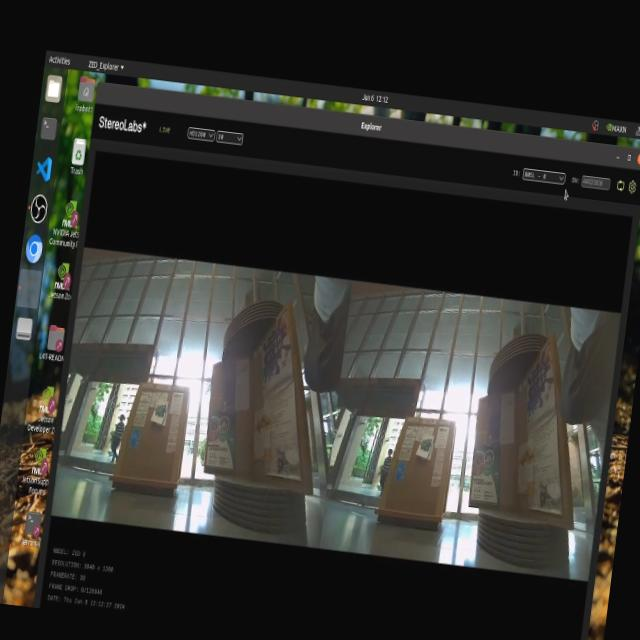green: (412, 432, 430, 462), (150, 398, 168, 425)
